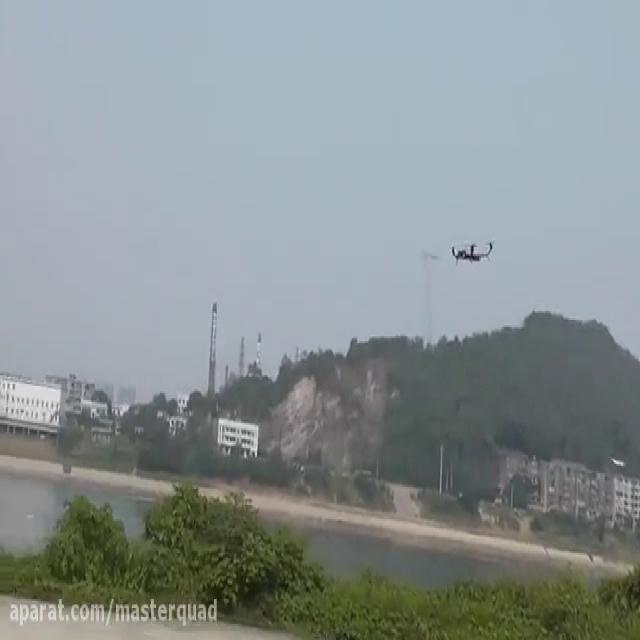drone: (446, 230, 499, 268)
